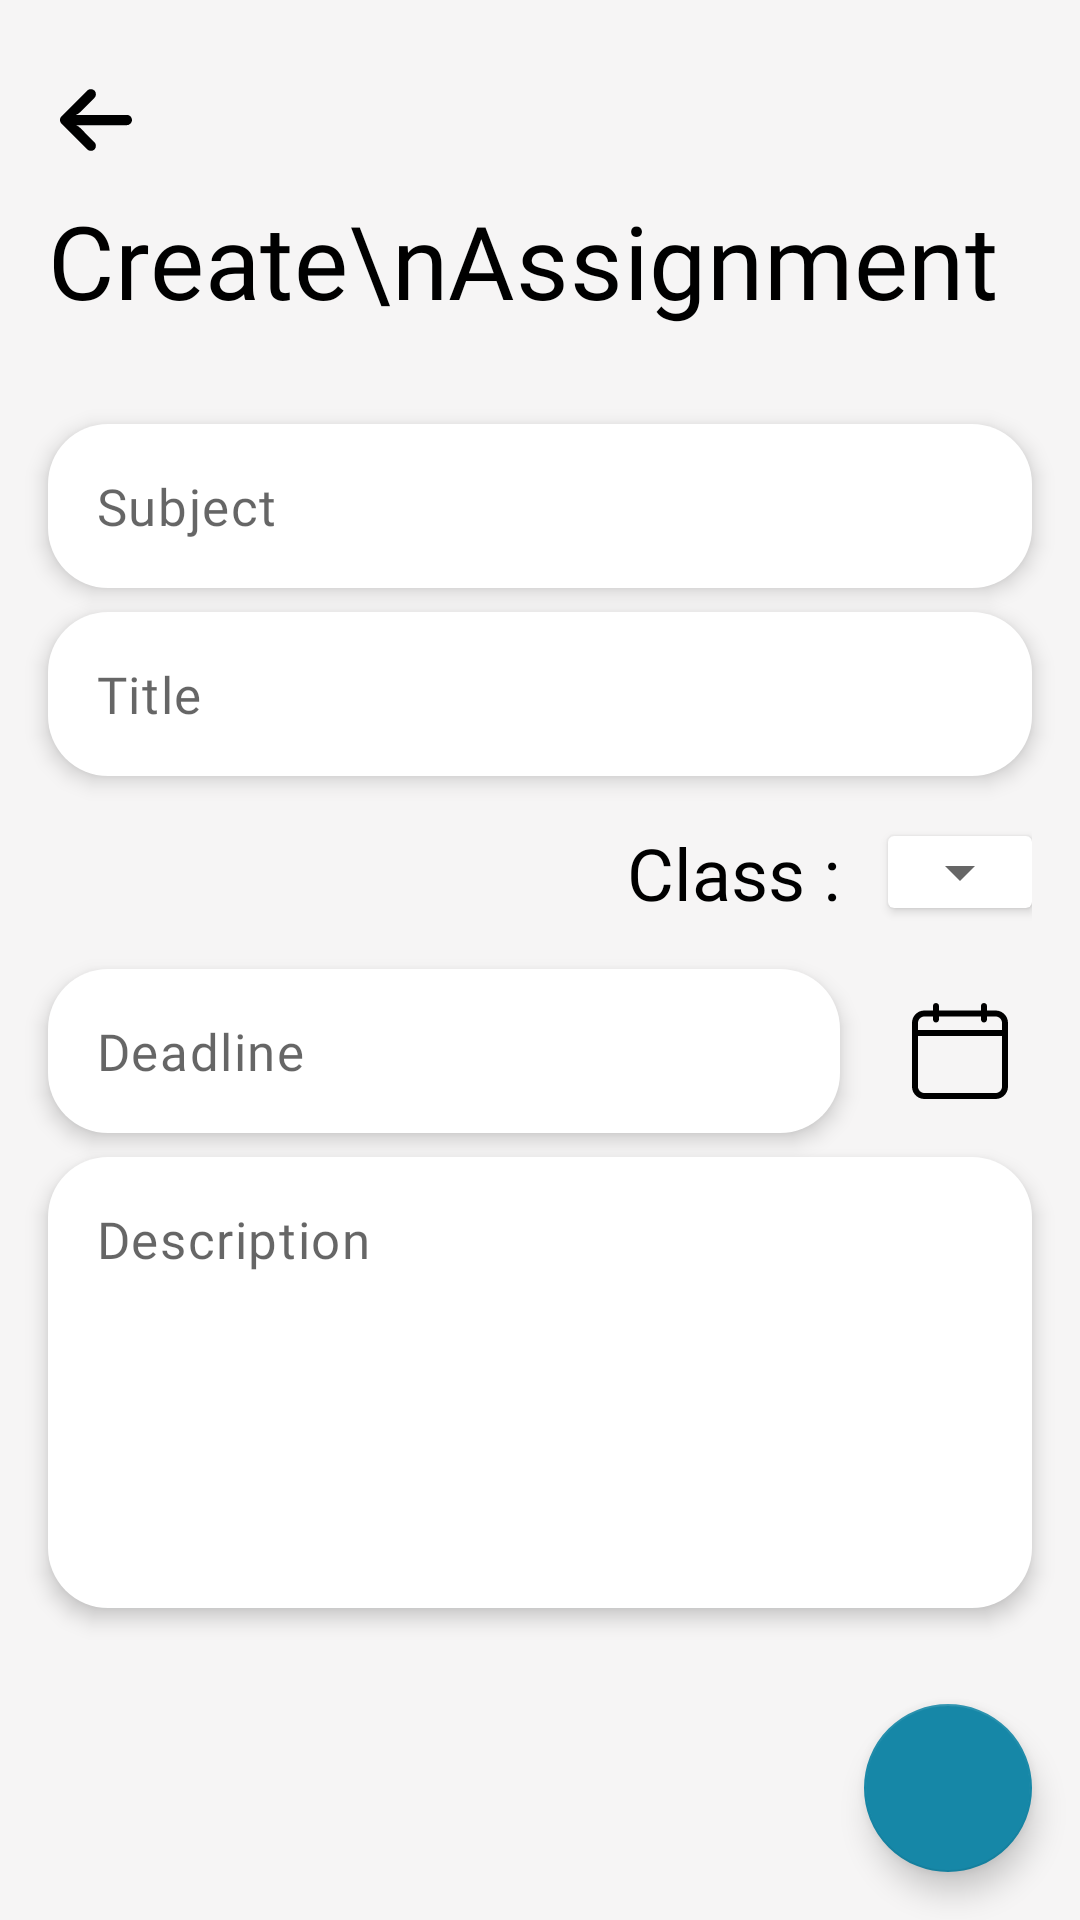

Icon bounding boxes for this 1080w x 1920h phone screenshot, format (x1, y1, x2, y2):
back arrow: (60, 89, 132, 151)
calendar: (912, 1003, 1008, 1099)
